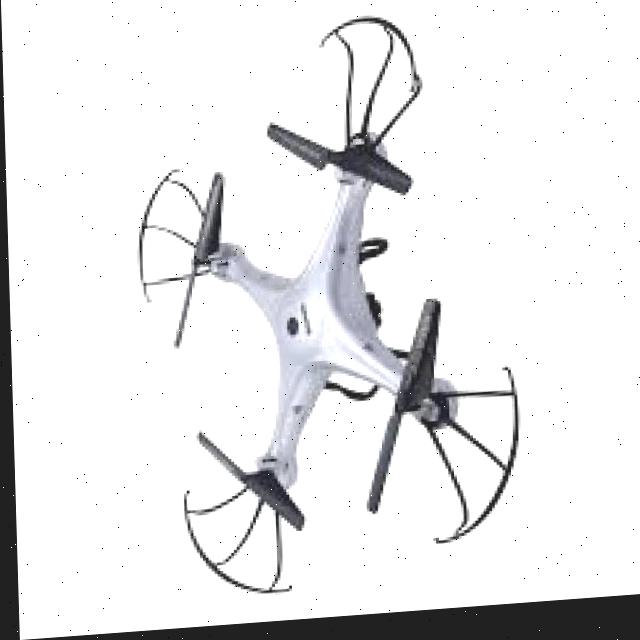drone: (123, 8, 518, 619)
